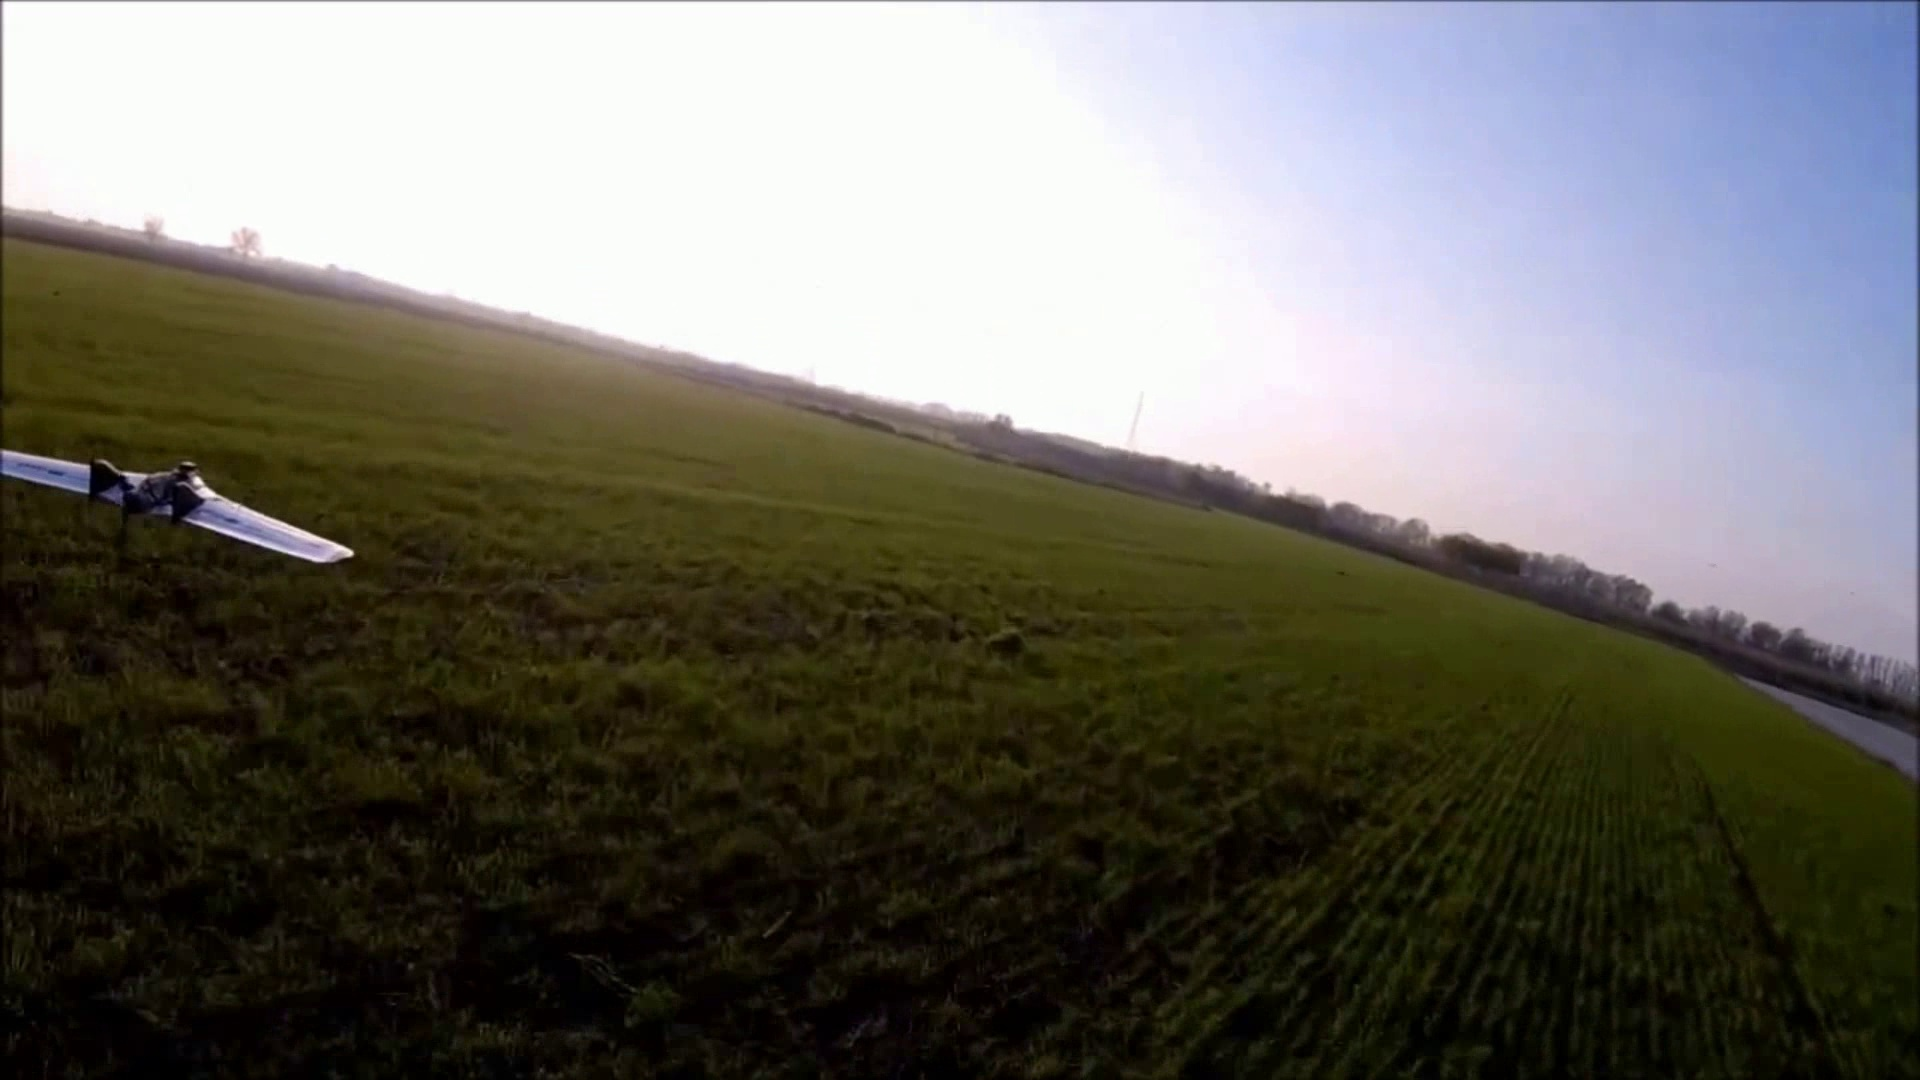airplane: (0, 454, 357, 568)
